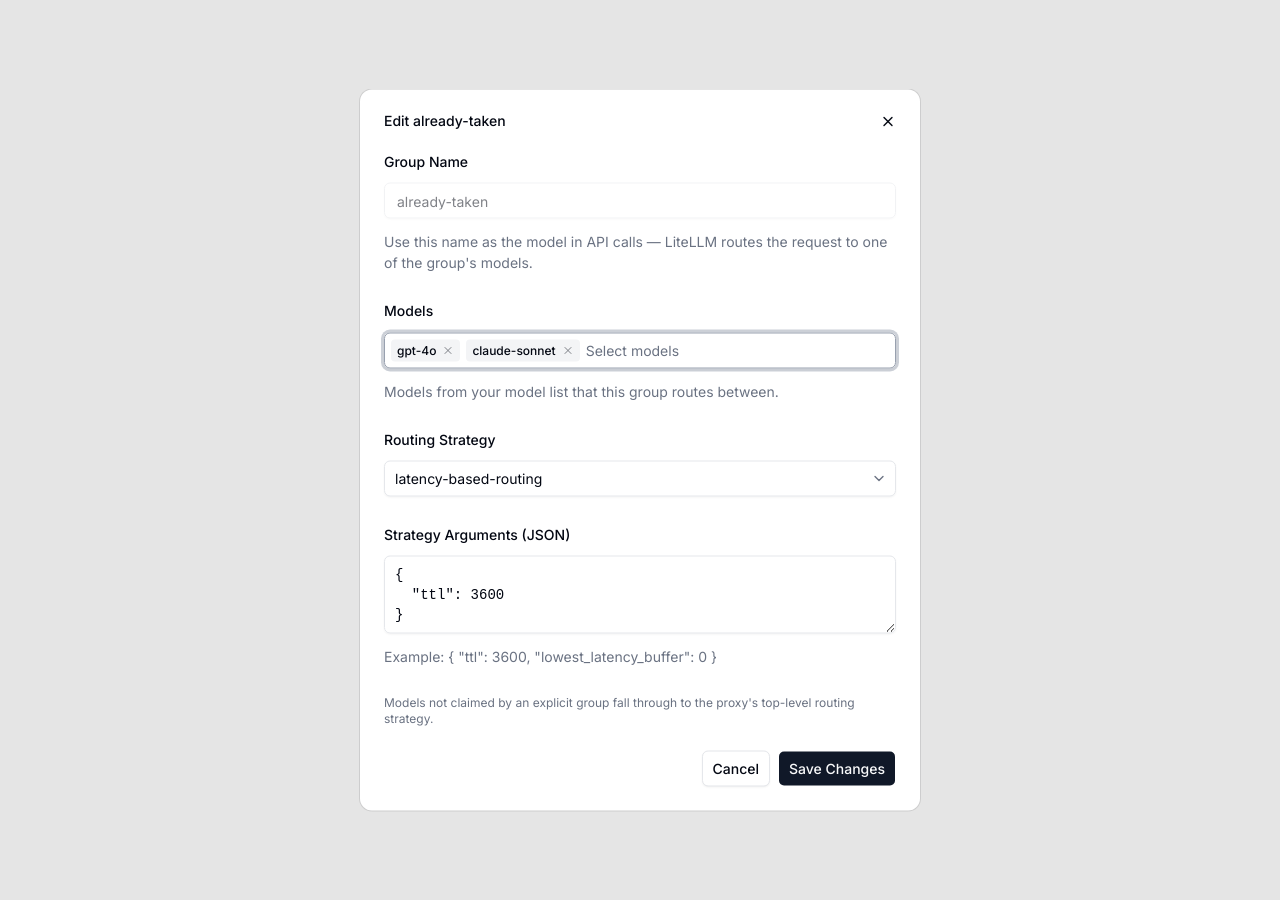
RoutingGroupModal › blocks the save and flags the field when the arguments are not valid JSON
The image size is (1280, 900).
Clear the text box labelled "Strategy Arguments (JSON)" at (640, 594), box [384,556,896,634]
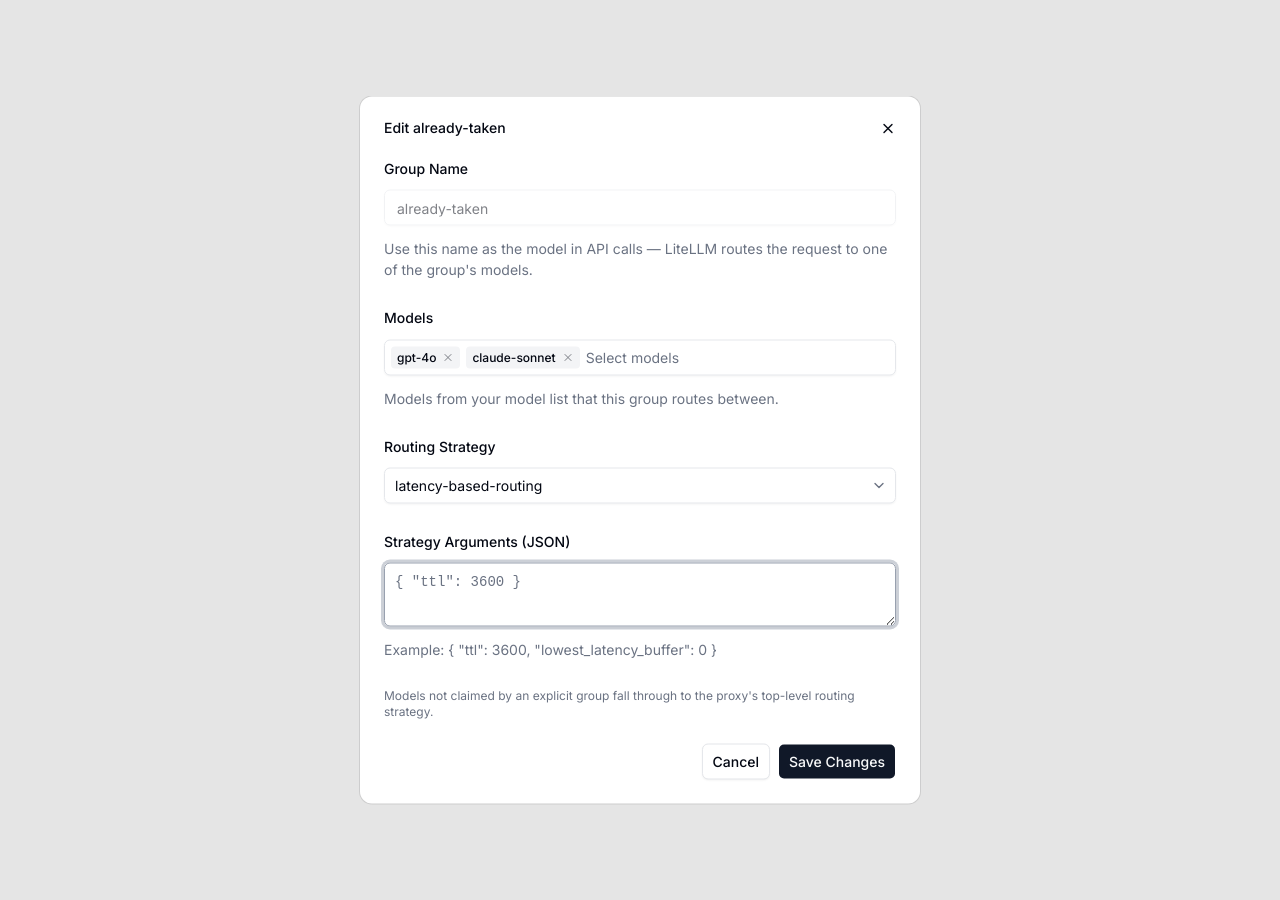
Type "not json" into the text box labelled "Strategy Arguments (JSON)" at (640, 594), box [384,562,896,626]
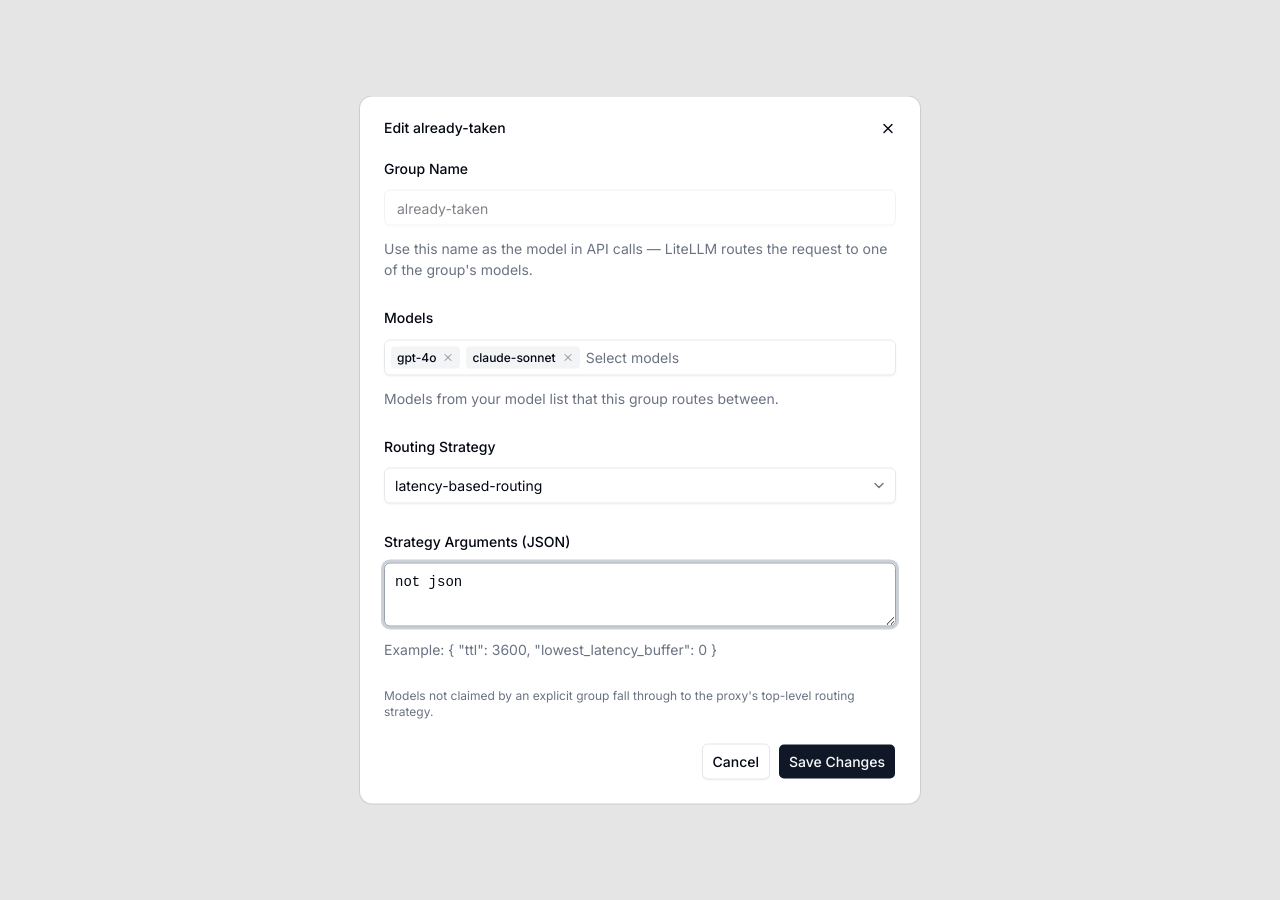
Click the button "Save Changes" at (837, 762), box [778,744,896,780]
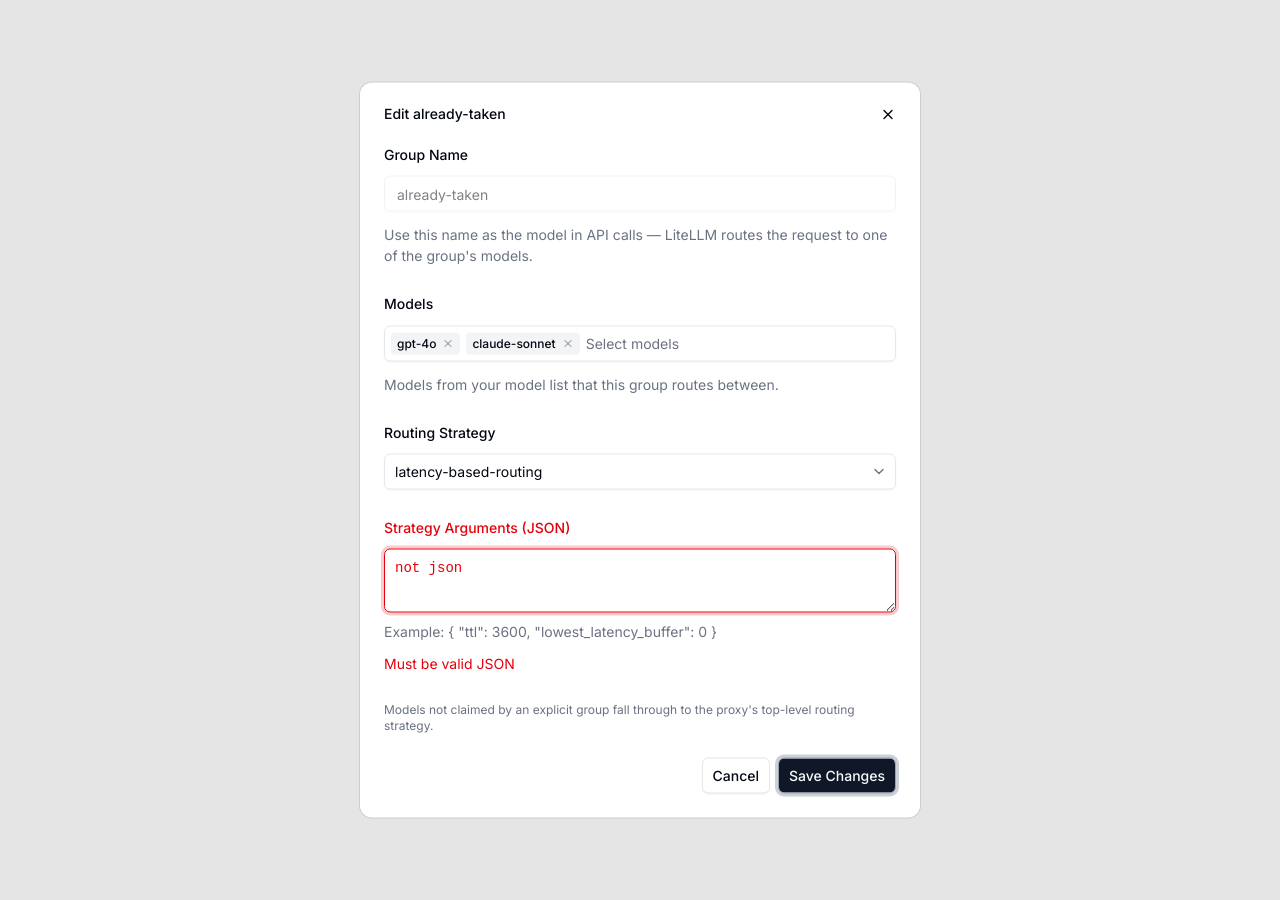
Expected: the text "Must be valid JSON" is shown, [384,654,515,672]
